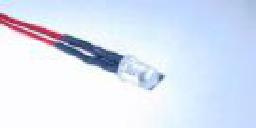LED: (114, 47, 166, 94)
